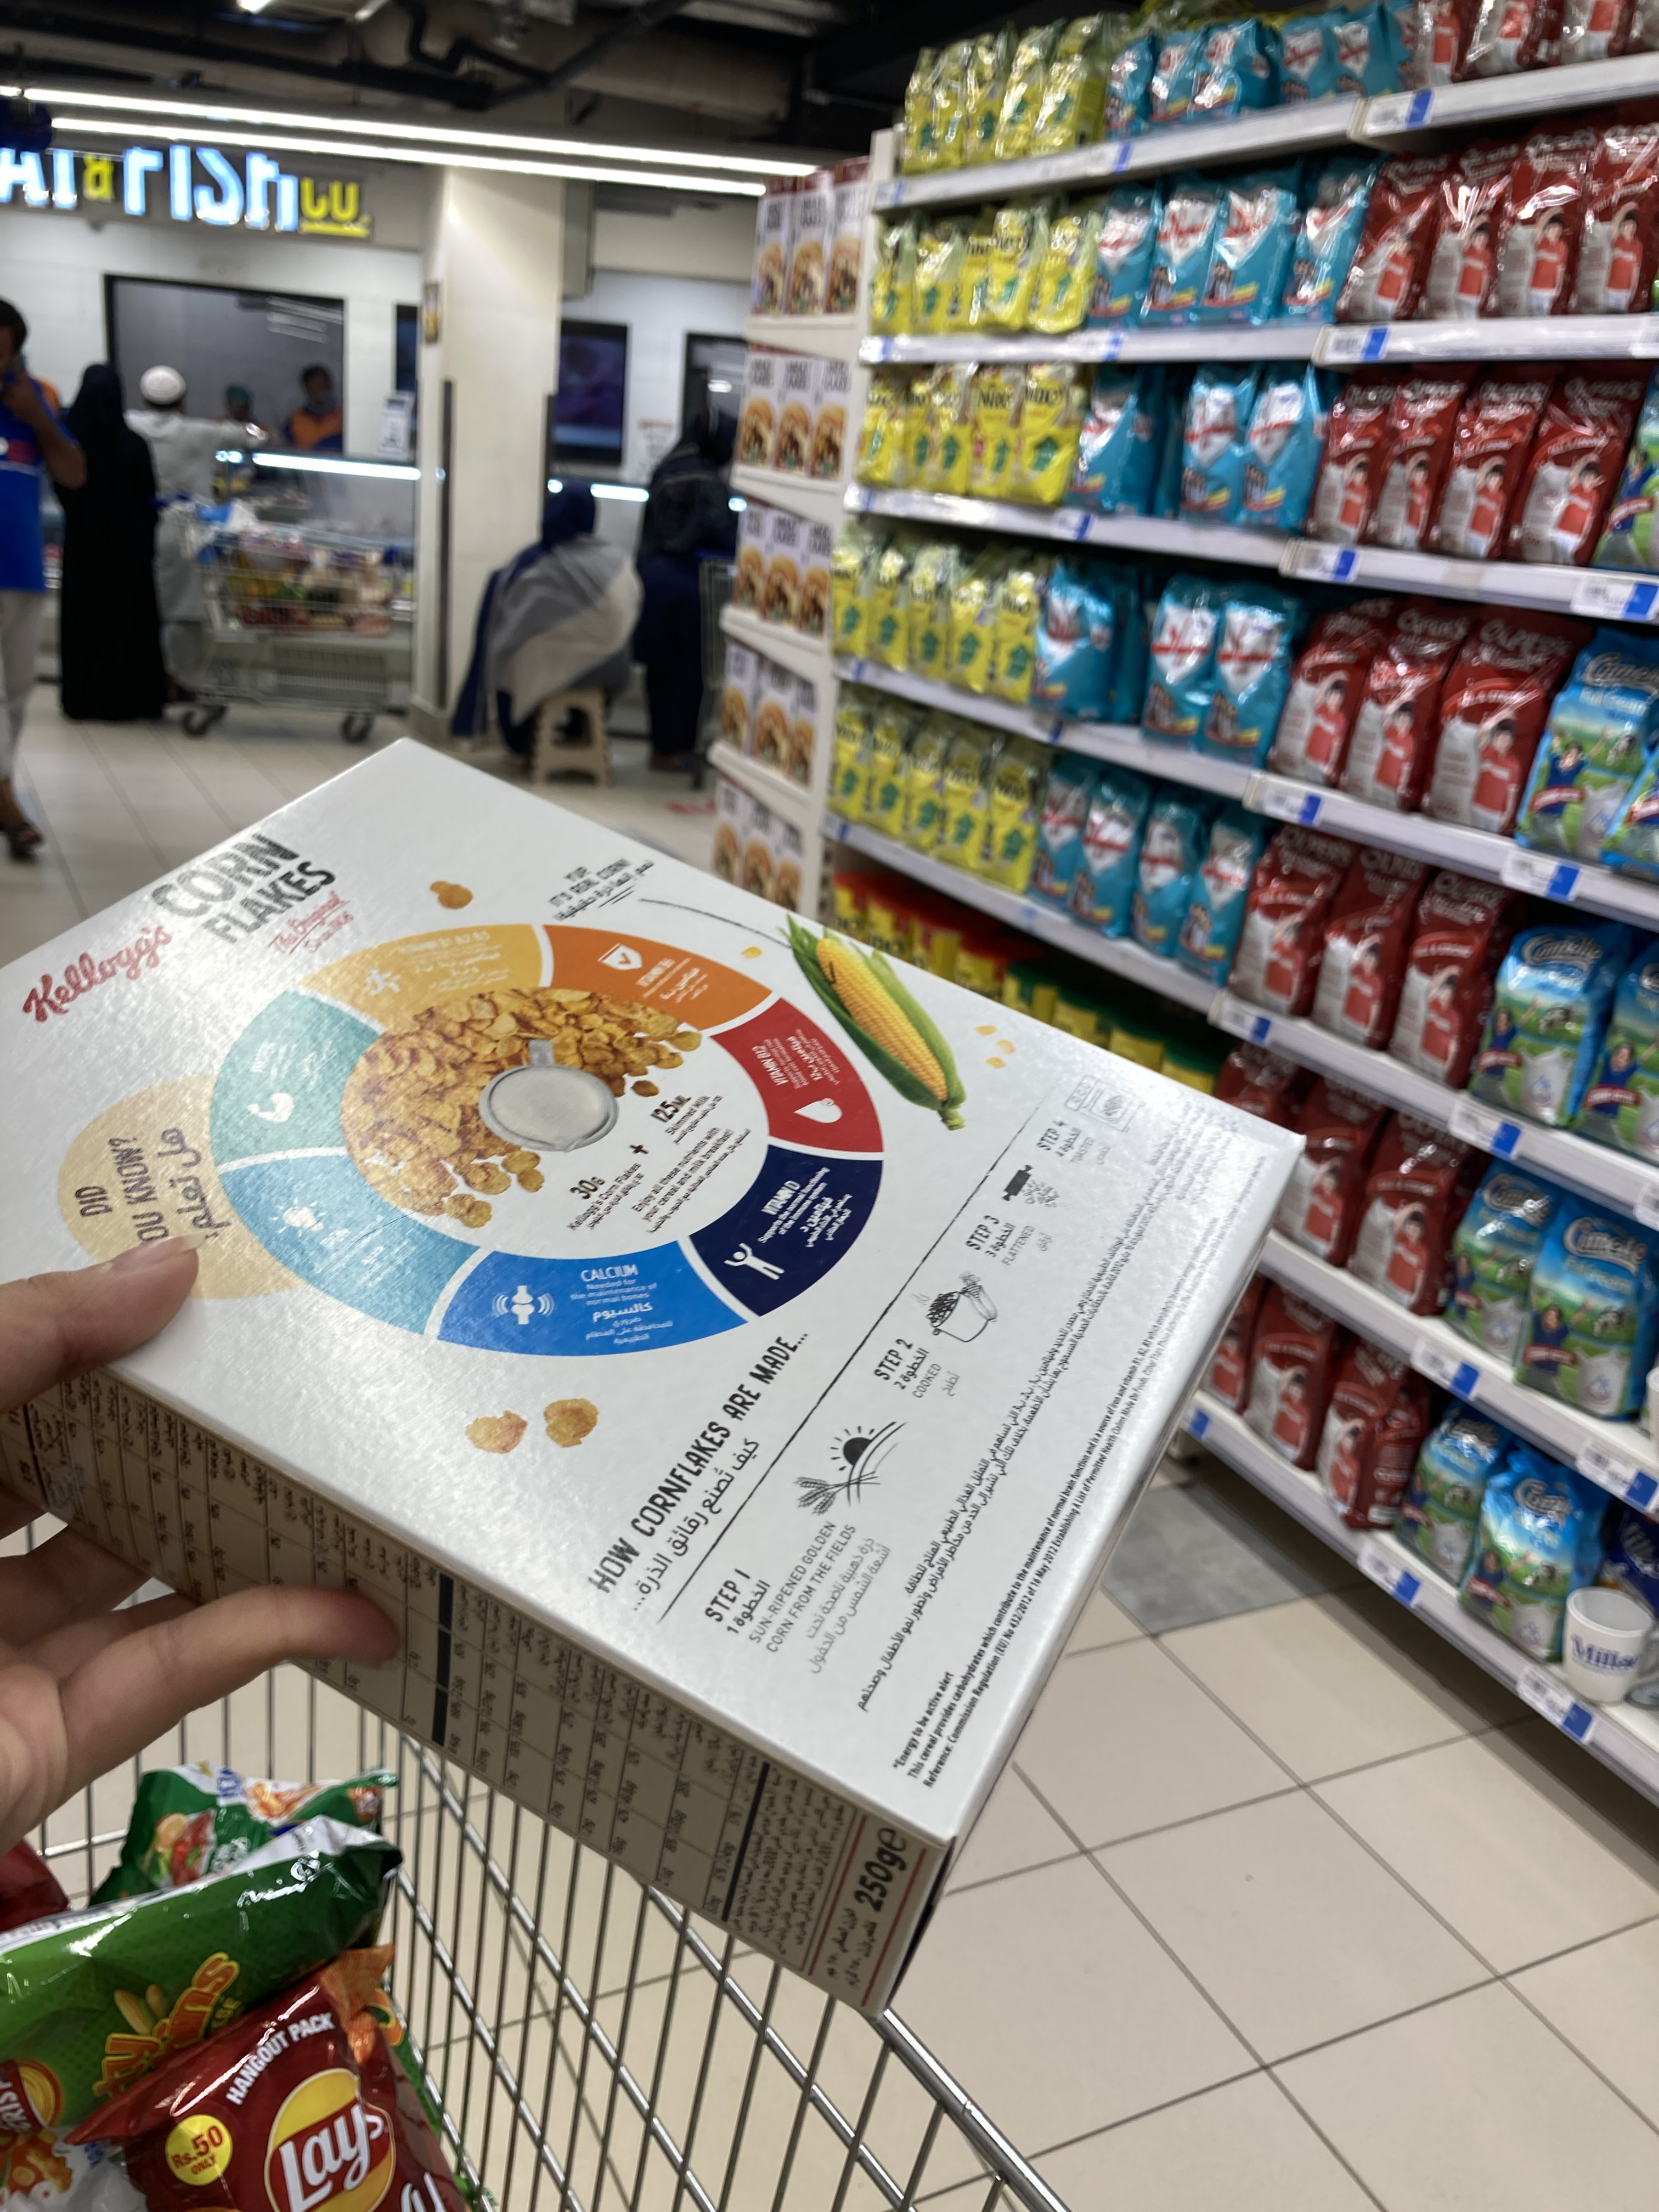Kellogg's Corn Flakes: (5, 732, 1331, 2015)
